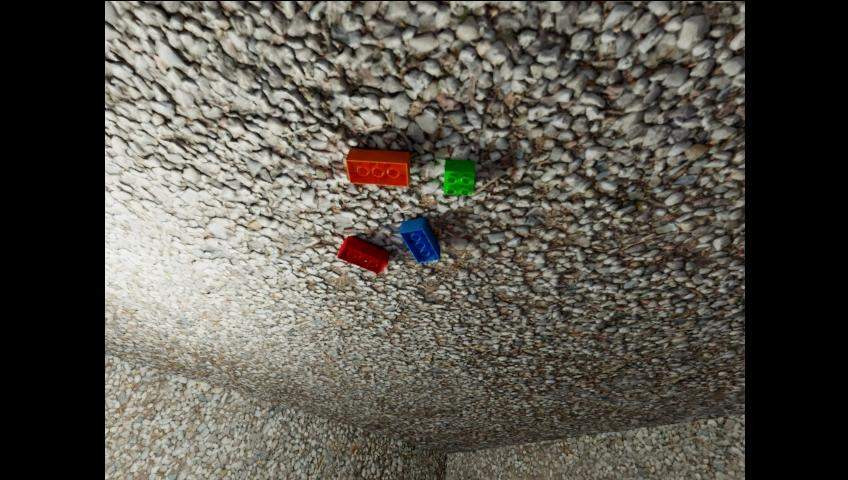2x2_green: (444, 159, 474, 195)
4x2_blue: (400, 217, 440, 263)
4x2_orange: (346, 148, 410, 187)
4x2_red: (337, 235, 389, 274)
